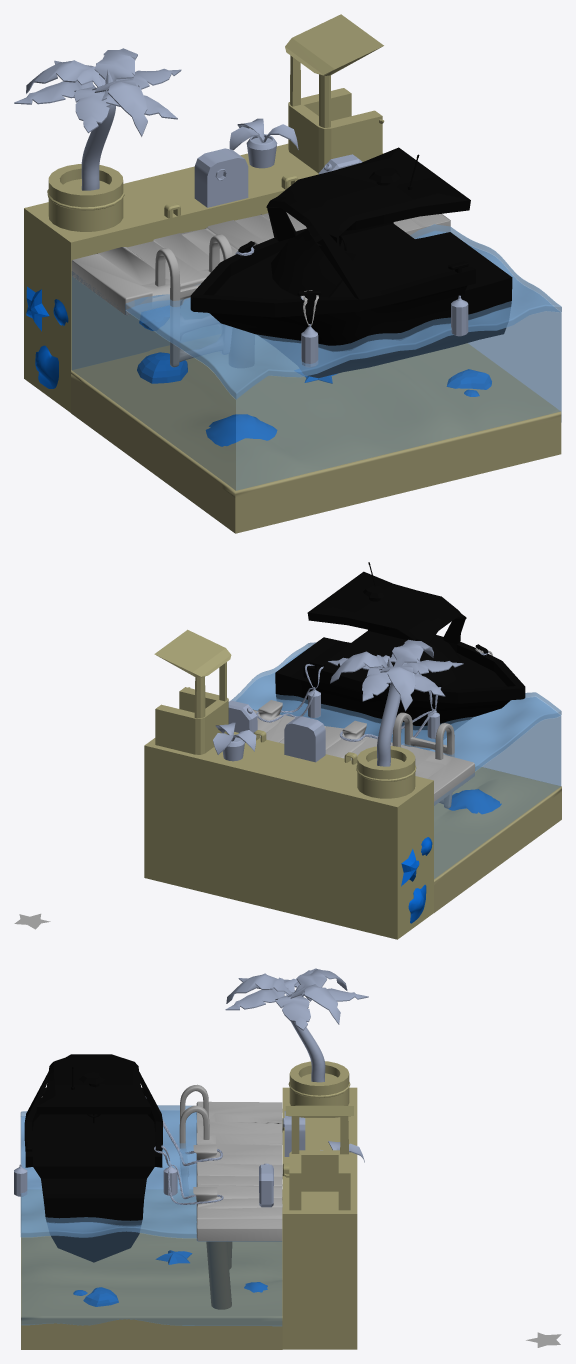
The model's file is maybeWorkFull1.fbx.
3 views of the same model, one above another, from view 1: azimuth 30°, elevation 25°; view 2: azimuth 150°, elevation 25°; view 3: azimuth 270°, elevation 25° (orthographic). The views are drawn at different scales.
Parts seen in each view (by area): view 1: pPlane17, boat_Obj:pPlane3, polySurface2, PierBlock, polySurface1, pPlane16, WoodPlanks, PierBooth, TreePlanter, GlassPane, Charger, pDisc4 (+13 smaller); view 2: PierBlock, boat_Obj:pPlane3, pPlane17, pPlane16, PierBooth, polySurface2, WoodPlanks, polySurface1, TreePlanter, Charger, GlassPane, extrudedSurface1 (+7 smaller); view 3: pPlane17, boat_Obj:pPlane3, polySurface2, PierBlock, WoodPlanks, polySurface1, pPlane16, PierBooth, TreePlanter, Pier3, extrudedSurface1, pPlane4 (+7 smaller).
Part boxes in pixels (x1=…): pPlane17: x1=71, y1=232, x2=561, y2=490; boat_Obj:pPlane3: x1=190, y1=147, x2=512, y2=377; polySurface2: x1=71, y1=334, x2=557, y2=490; PierBlock: x1=24, y1=143, x2=383, y2=412; polySurface1: x1=71, y1=371, x2=561, y2=533; pPlane16: x1=125, y1=224, x2=561, y2=399; WoodPlanks: x1=71, y1=212, x2=450, y2=367; PierBooth: x1=285, y1=14, x2=384, y2=173; TreePlanter: x1=47, y1=164, x2=124, y2=231; GlassPane: x1=271, y1=229, x2=358, y2=297; Charger: x1=194, y1=148, x2=248, y2=207; pDisc4: x1=206, y1=414, x2=277, y2=446; PierBlock: x1=144, y1=730, x2=433, y2=939; boat_Obj:pPlane3: x1=275, y1=571, x2=525, y2=749; pPlane17: x1=237, y1=652, x2=561, y2=878; pPlane16: x1=231, y1=642, x2=561, y2=771; PierBooth: x1=154, y1=629, x2=231, y2=754; polySurface2: x1=434, y1=766, x2=561, y2=879; WoodPlanks: x1=253, y1=700, x2=474, y2=808; polySurface1: x1=434, y1=787, x2=561, y2=912; TreePlanter: x1=356, y1=746, x2=416, y2=798; Charger: x1=284, y1=716, x2=325, y2=762; GlassPane: x1=420, y1=635, x2=462, y2=687; extrudedSurface1: x1=377, y1=682, x2=400, y2=766; pPlane17: x1=21, y1=1111, x2=282, y2=1326; boat_Obj:pPlane3: x1=24, y1=1054, x2=162, y2=1262; polySurface2: x1=21, y1=1189, x2=282, y2=1315; PierBlock: x1=282, y1=1087, x2=357, y2=1349; WoodPlanks: x1=179, y1=1084, x2=282, y2=1241; polySurface1: x1=21, y1=1311, x2=282, y2=1349; pPlane16: x1=20, y1=1105, x2=196, y2=1238; PierBooth: x1=284, y1=1105, x2=353, y2=1210; TreePlanter: x1=288, y1=1061, x2=350, y2=1105; Pier3: x1=206, y1=1241, x2=231, y2=1309; extrudedSurface1: x1=291, y1=1021, x2=325, y2=1082; pPlane4: x1=275, y1=995, x2=310, y2=1030.
Bounding box in the file's own units: 10.04 × 7.75 × 14.66.
